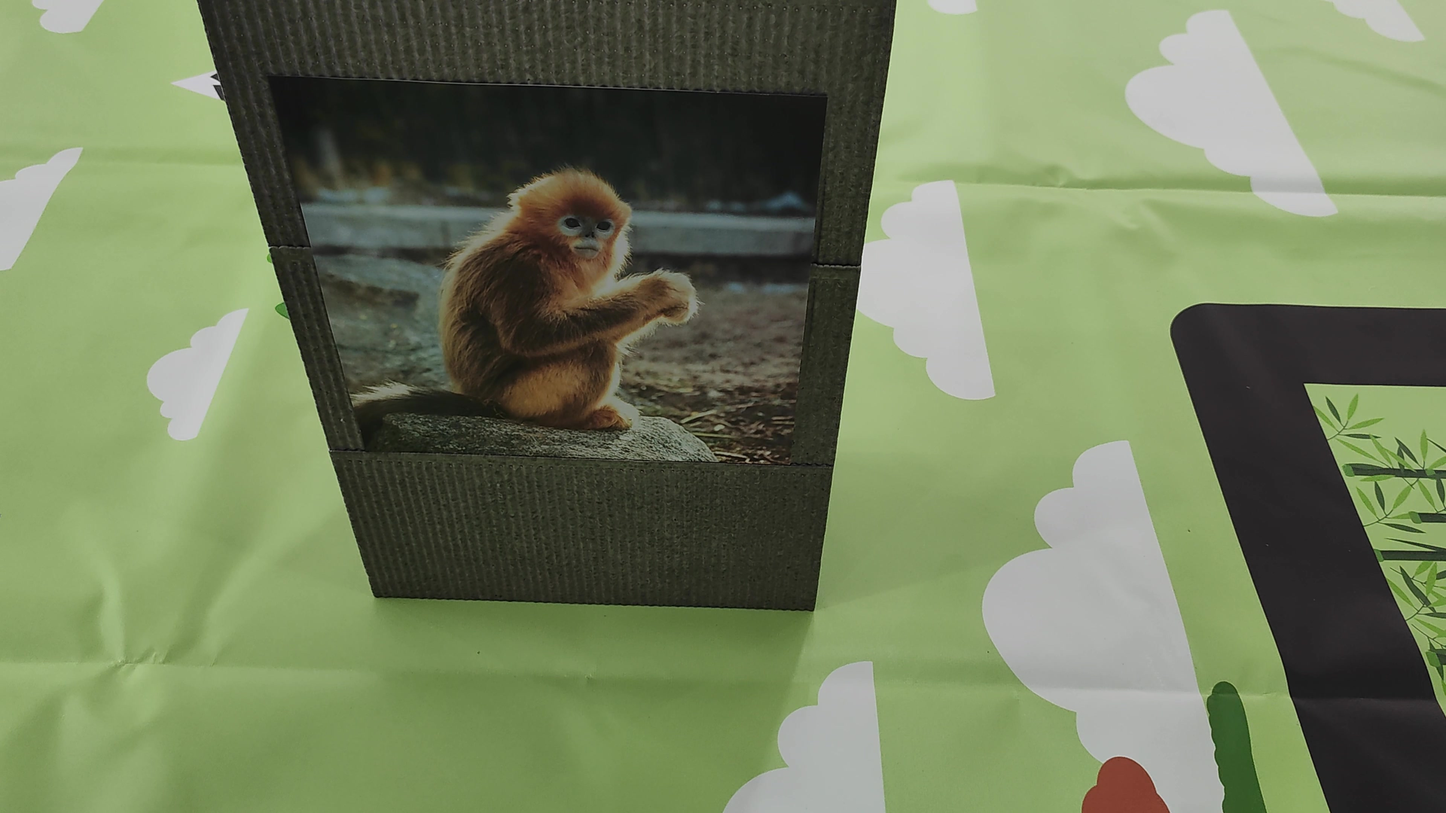monkey: (396, 99, 734, 444)
